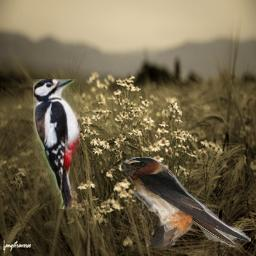Swallow: (121, 157, 251, 247)
Woodpecker: (33, 79, 80, 209)
